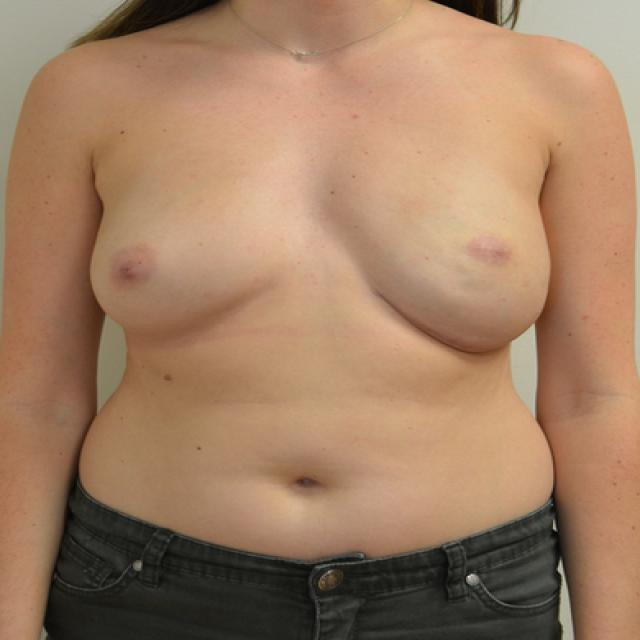Seno herido: (321, 170, 558, 370)
Seno ileso: (82, 169, 296, 350)
